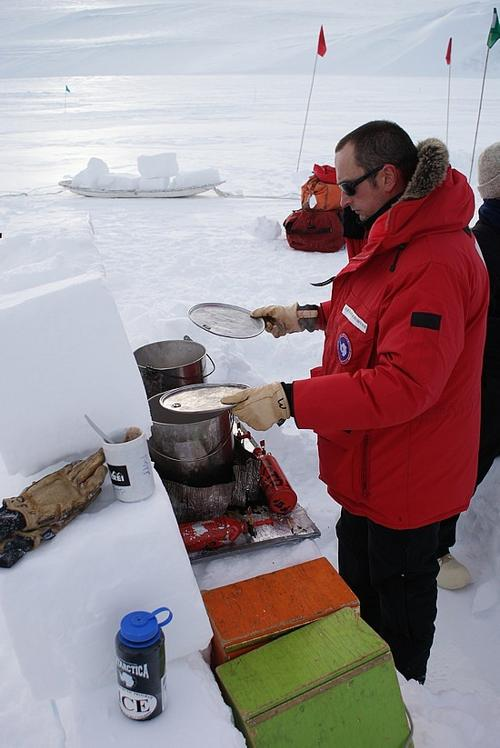person: (225, 115, 491, 695)
